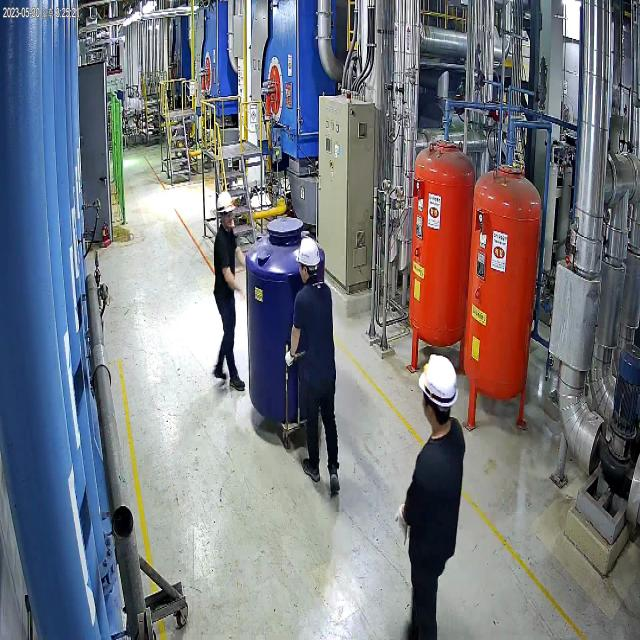Water Tank: (241, 204, 325, 438)
worker: (394, 344, 471, 640), (286, 221, 348, 505), (210, 184, 248, 398)
